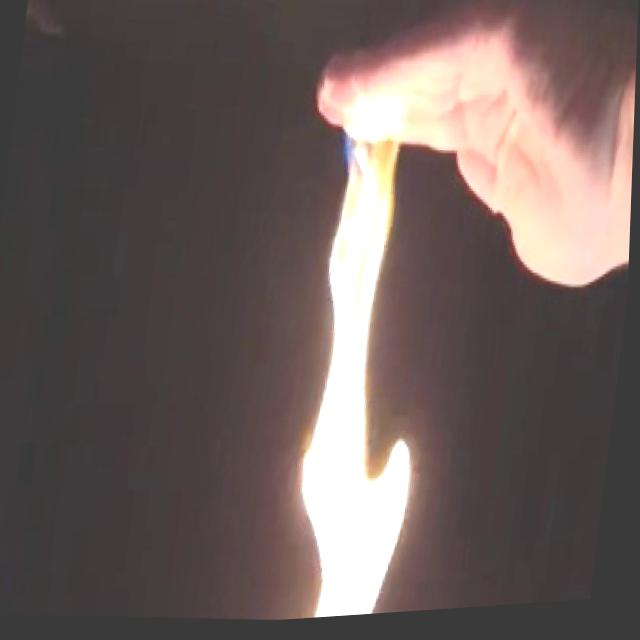Fire: (271, 109, 475, 625)
